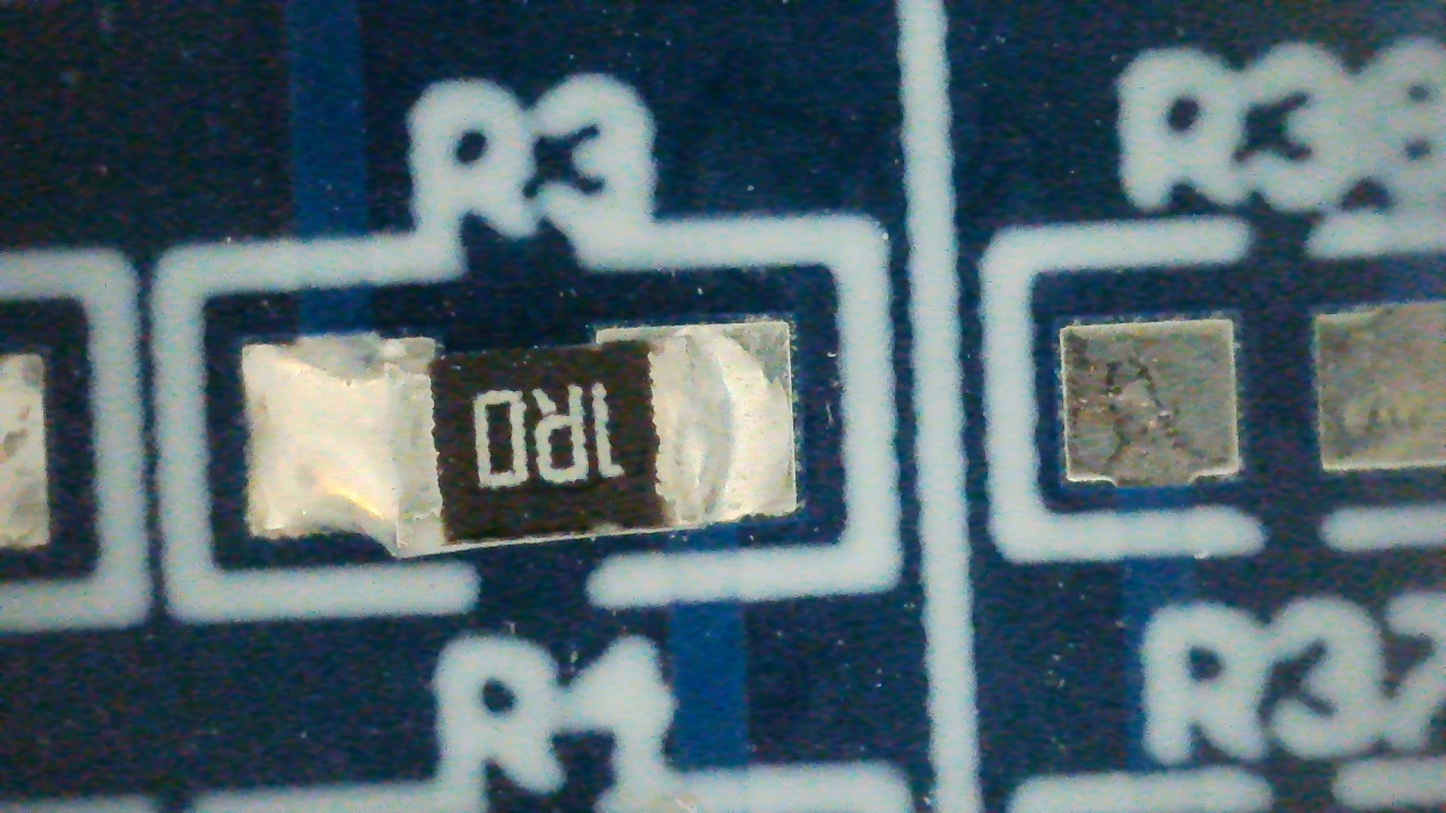NG: (244, 321, 796, 558)
